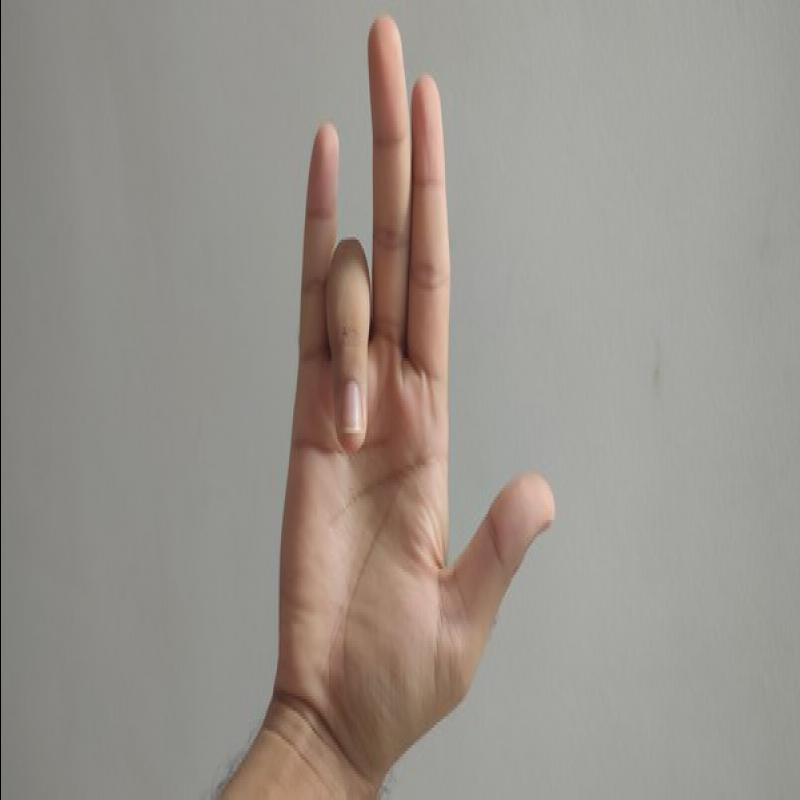Pathaaka: (246, 16, 567, 770)
